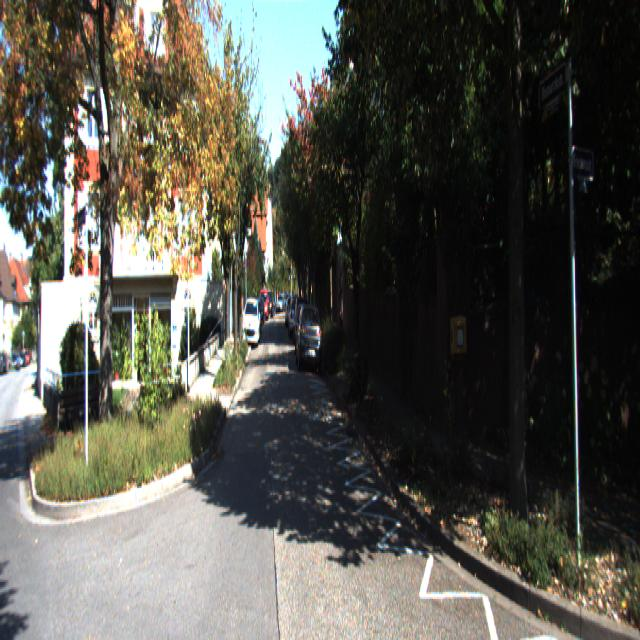Car: (294, 300, 322, 377), (241, 297, 260, 349)
DontCare: (261, 277, 294, 354), (0, 342, 41, 381)
